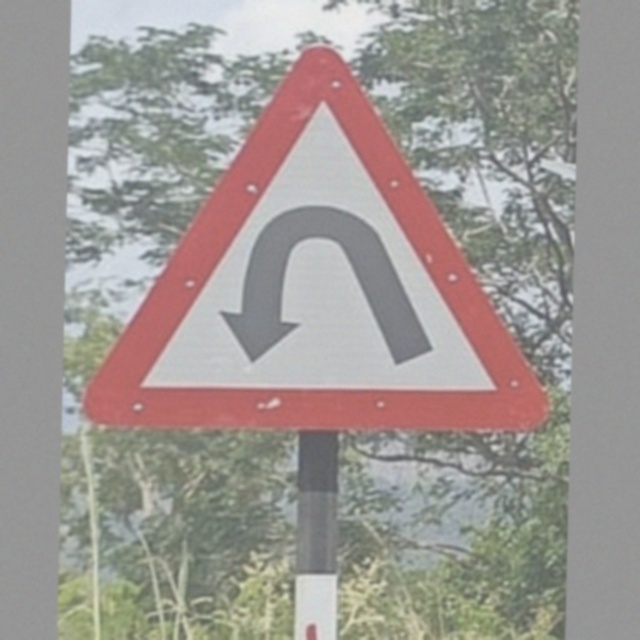Left_Hair_Pin_Bend: (90, 50, 551, 436)
